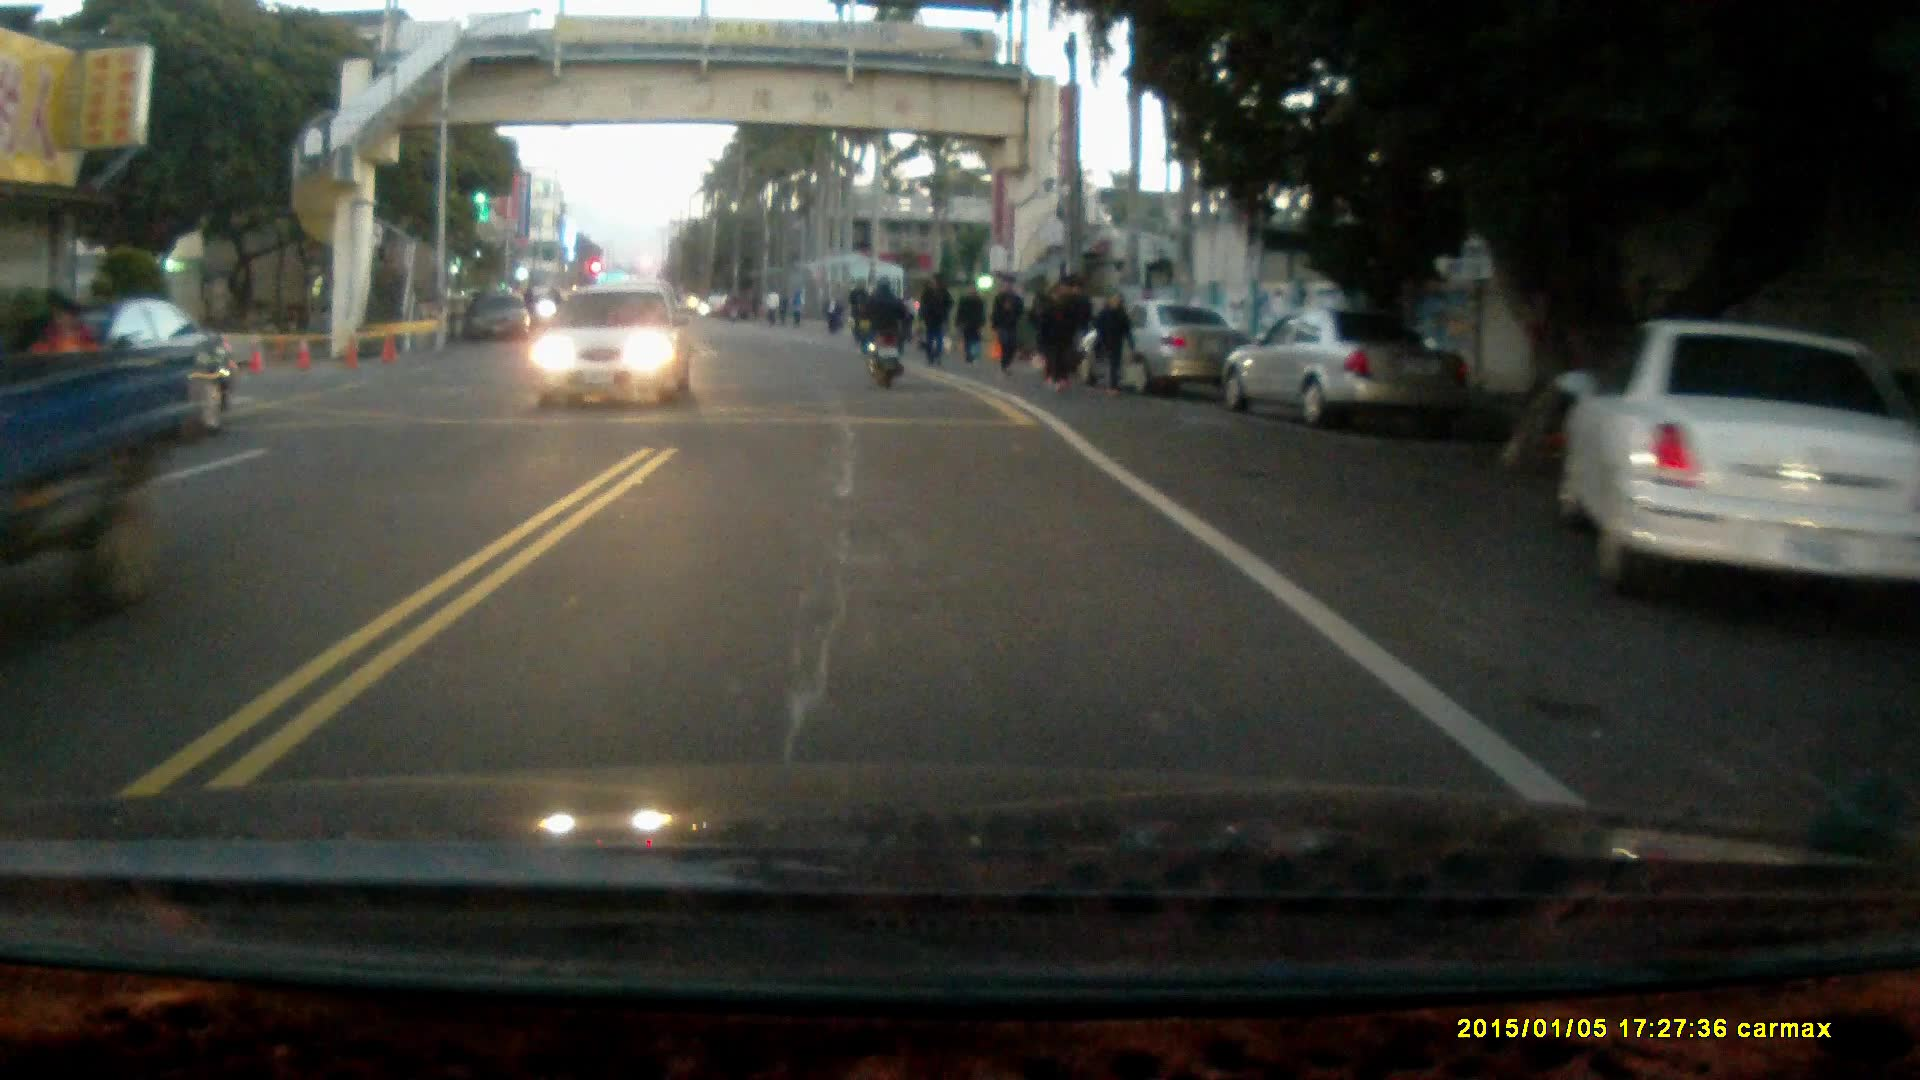pedestrian: (1095, 289, 1135, 397), (1036, 272, 1073, 385), (990, 271, 1026, 372), (1057, 271, 1091, 380), (917, 270, 953, 363), (954, 276, 989, 364)
rider: (854, 273, 912, 388)
vehicle: (1555, 314, 1893, 619), (1, 344, 219, 618), (4, 295, 218, 464), (1223, 297, 1471, 426), (526, 278, 697, 409), (1102, 294, 1254, 395)
